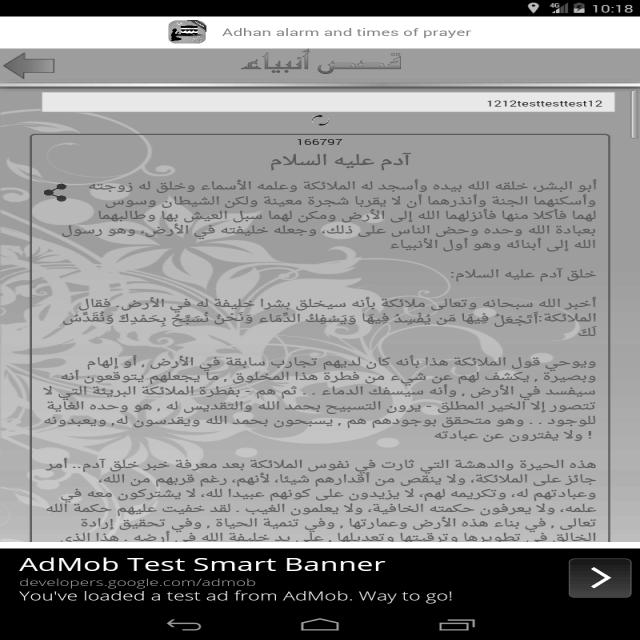Button: (562, 556, 637, 603)
ImageButton: (5, 49, 62, 81)
ImageView: (164, 11, 215, 43)
TextView: (81, 158, 576, 532), (11, 552, 456, 600), (230, 51, 440, 77), (233, 23, 474, 42)
